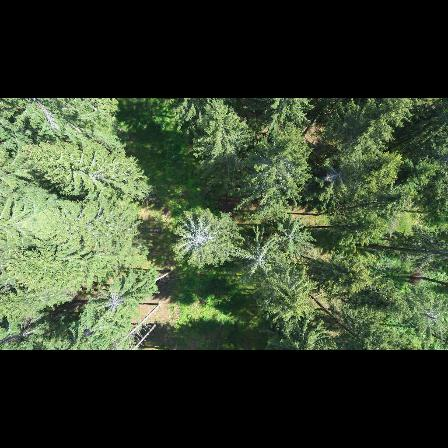Sick: (172, 208, 227, 266), (226, 237, 287, 286), (317, 157, 356, 196), (99, 288, 129, 322)
